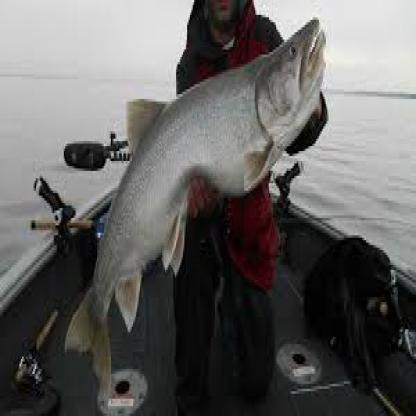fish: (60, 6, 330, 374)
